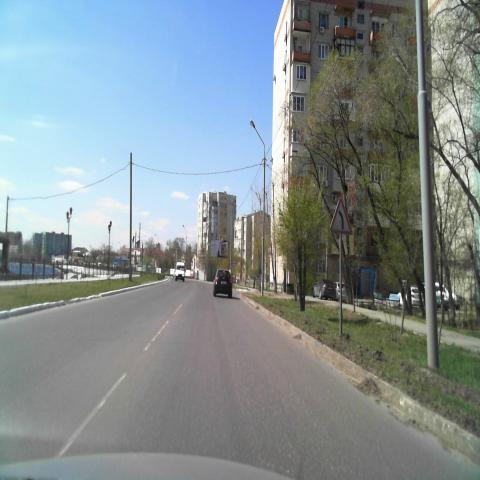1_11_1: (330, 198, 352, 234)
